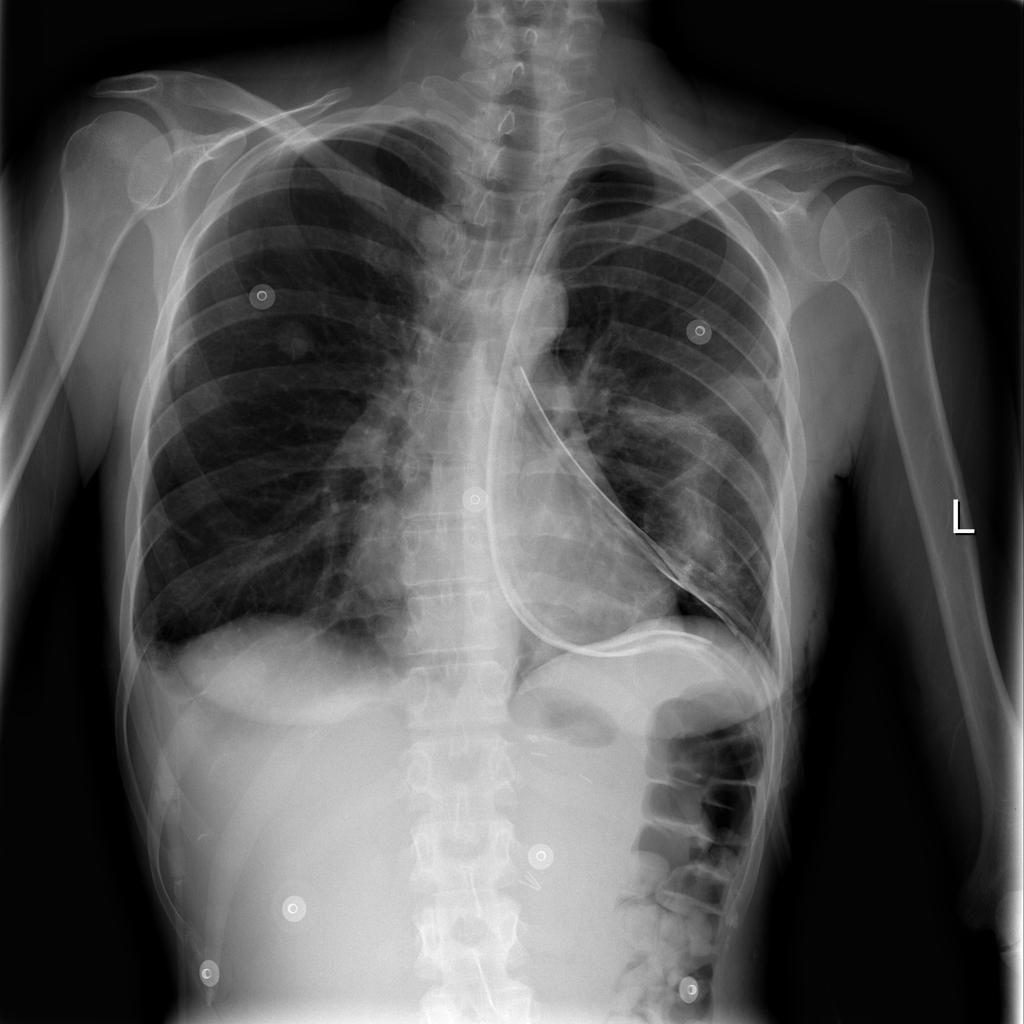nodule: (259, 305, 332, 374)
